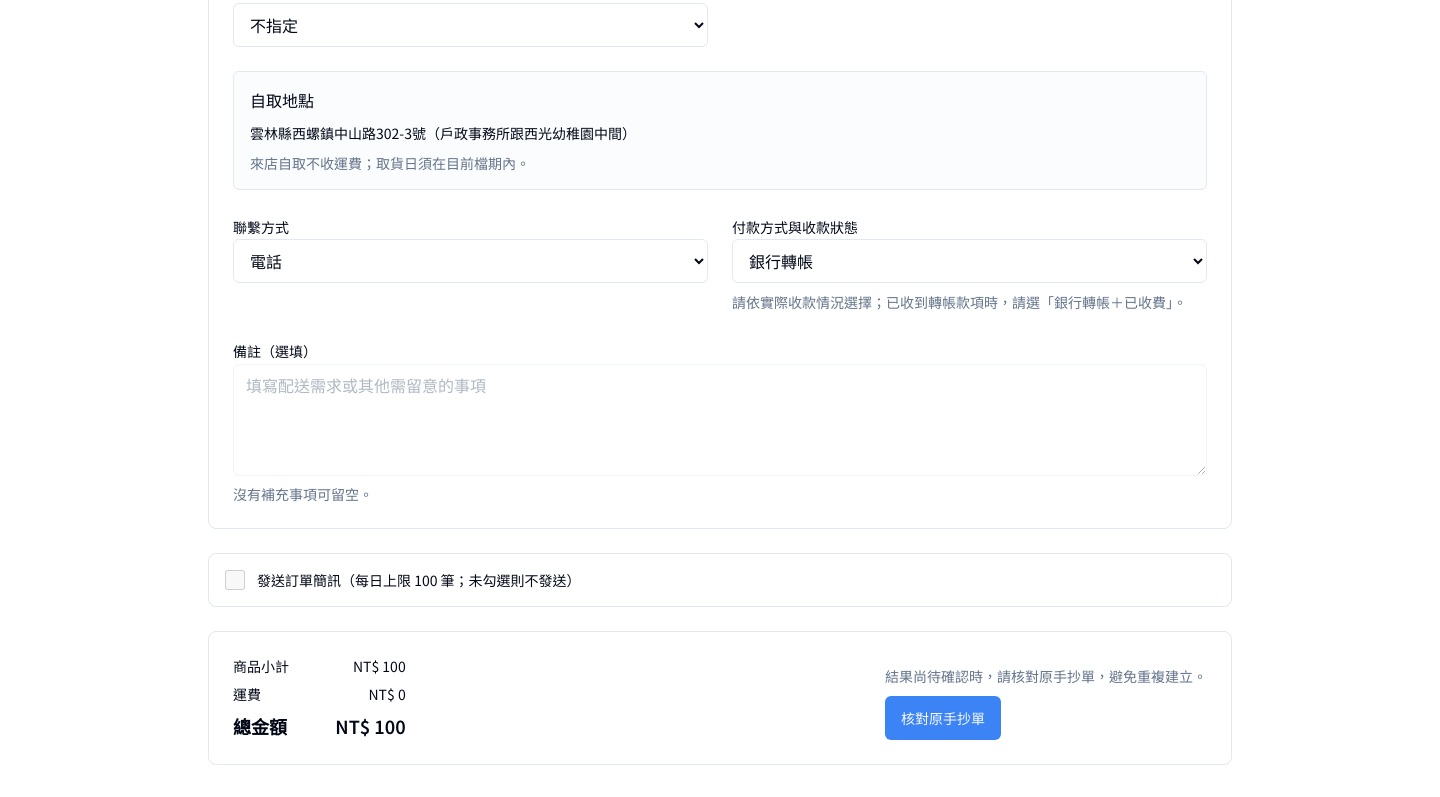
Test case: manual form › locks restored pending data and uses the original retry without a new price quote
(page scrolled)
Click the button "核對原手抄單": (943, 718) [885,696,1001,740]
(page scrolled)
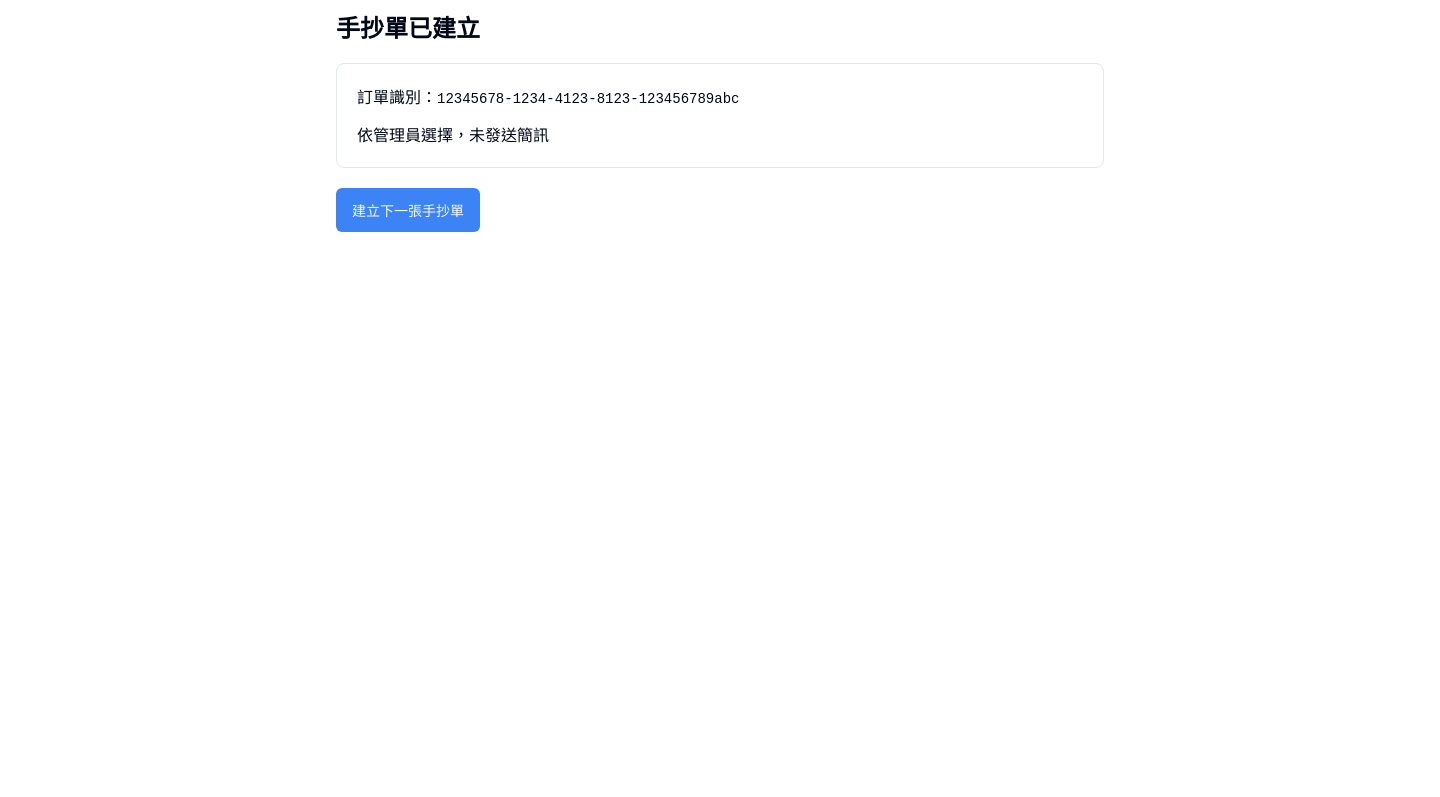
Expected: the heading "手抄單已建立" is shown, [336,9,480,44]
